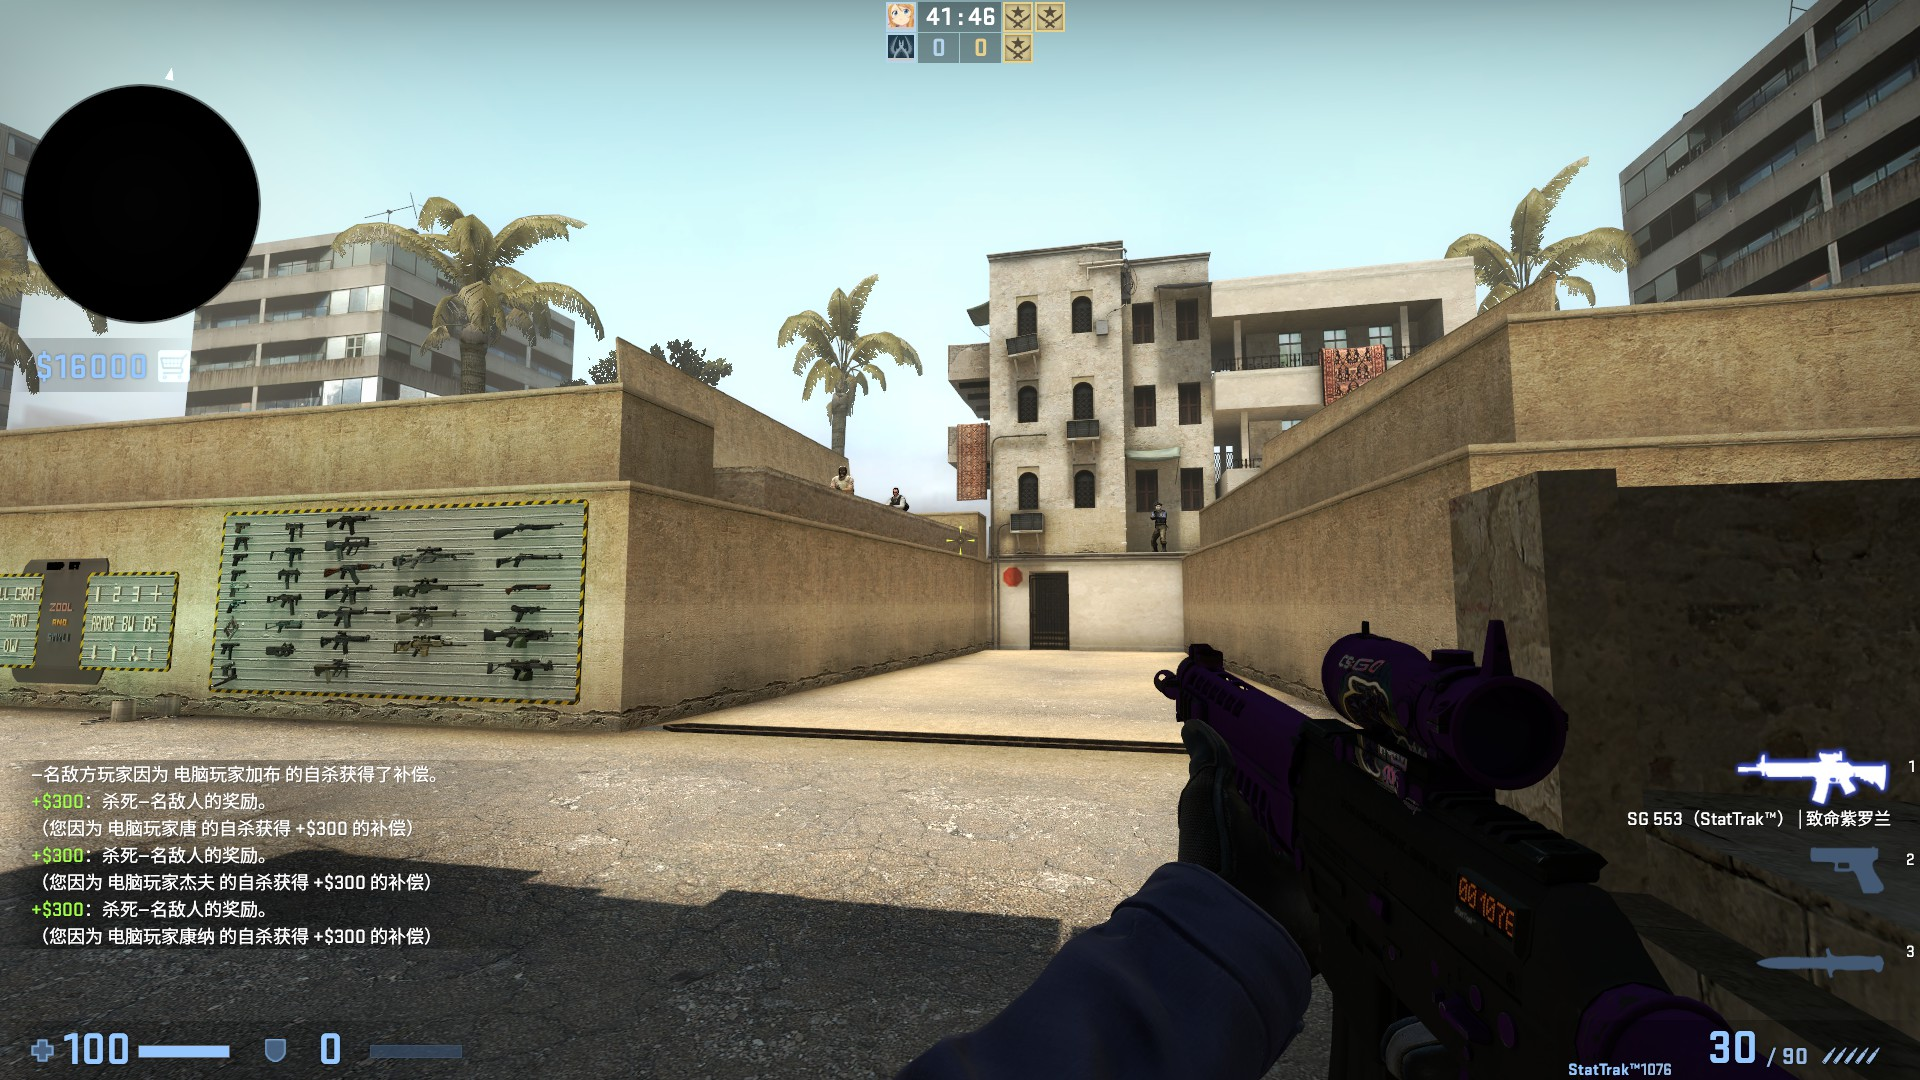head: (836, 464, 847, 479), (1152, 501, 1163, 512), (891, 485, 899, 498)
